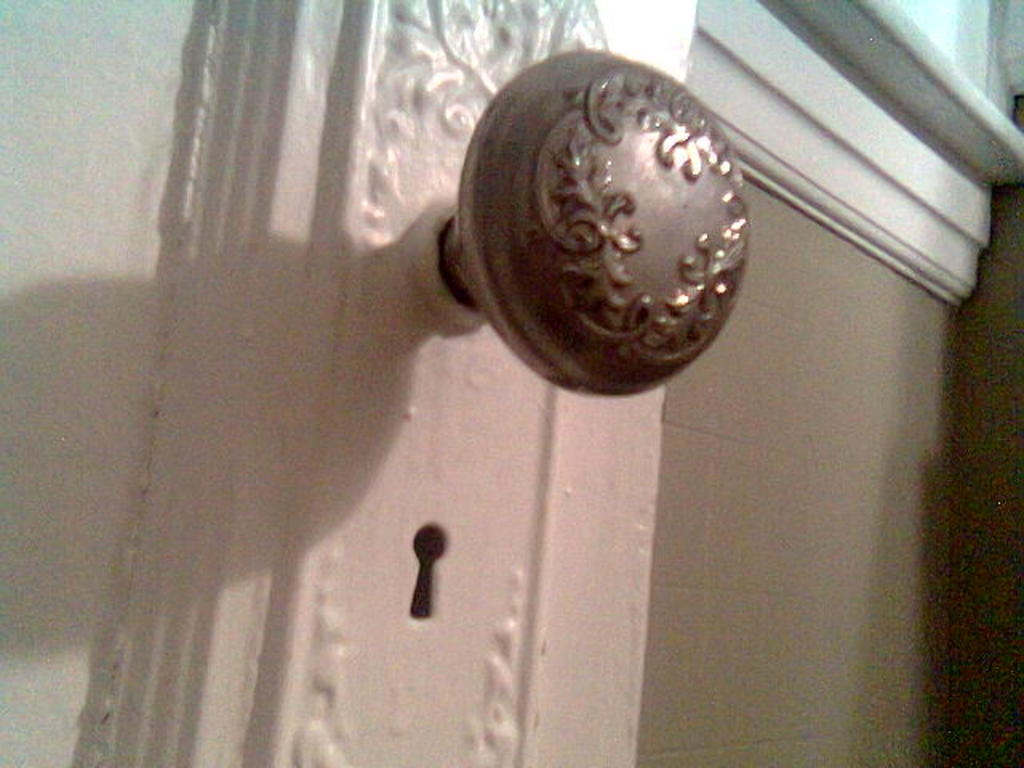door: (19, 11, 604, 729)
handle: (436, 42, 759, 402)
